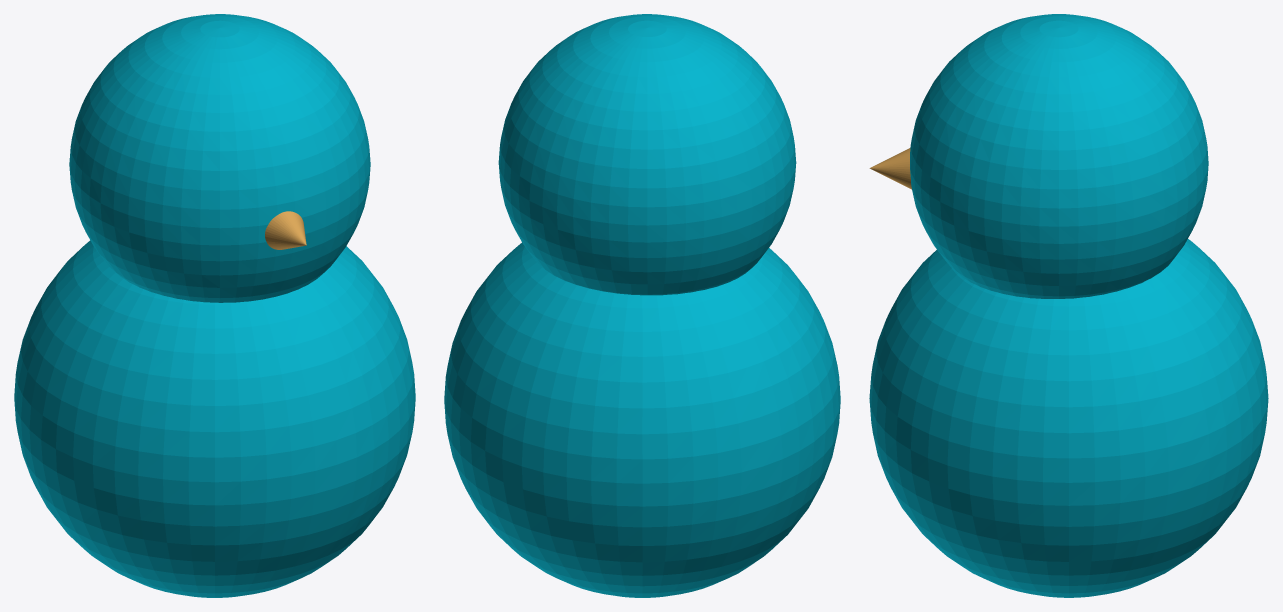
File: snowman.glb
3 renders of one model, left to right at view 1: azimuth 30°, elevation 25°; view 2: azimuth 150°, elevation 25°; view 3: azimuth 270°, elevation 25°, orthographic.
Visible parts, largest first — view 1: Mesh_Mesh_head_geo.001_lambert2SG.001; view 2: Mesh_Mesh_head_geo.001_lambert2SG.001; view 3: Mesh_Mesh_head_geo.001_lambert2SG.001.
Boxes of the visible parts, box(x1,y1,x2,y2) form: Mesh_Mesh_head_geo.001_lambert2SG.001: box(14, 14, 415, 597); Mesh_Mesh_head_geo.001_lambert2SG.001: box(444, 14, 840, 597); Mesh_Mesh_head_geo.001_lambert2SG.001: box(869, 14, 1268, 597).
Bounding box in the file's own units: 0.2 × 0.305 × 0.2.
